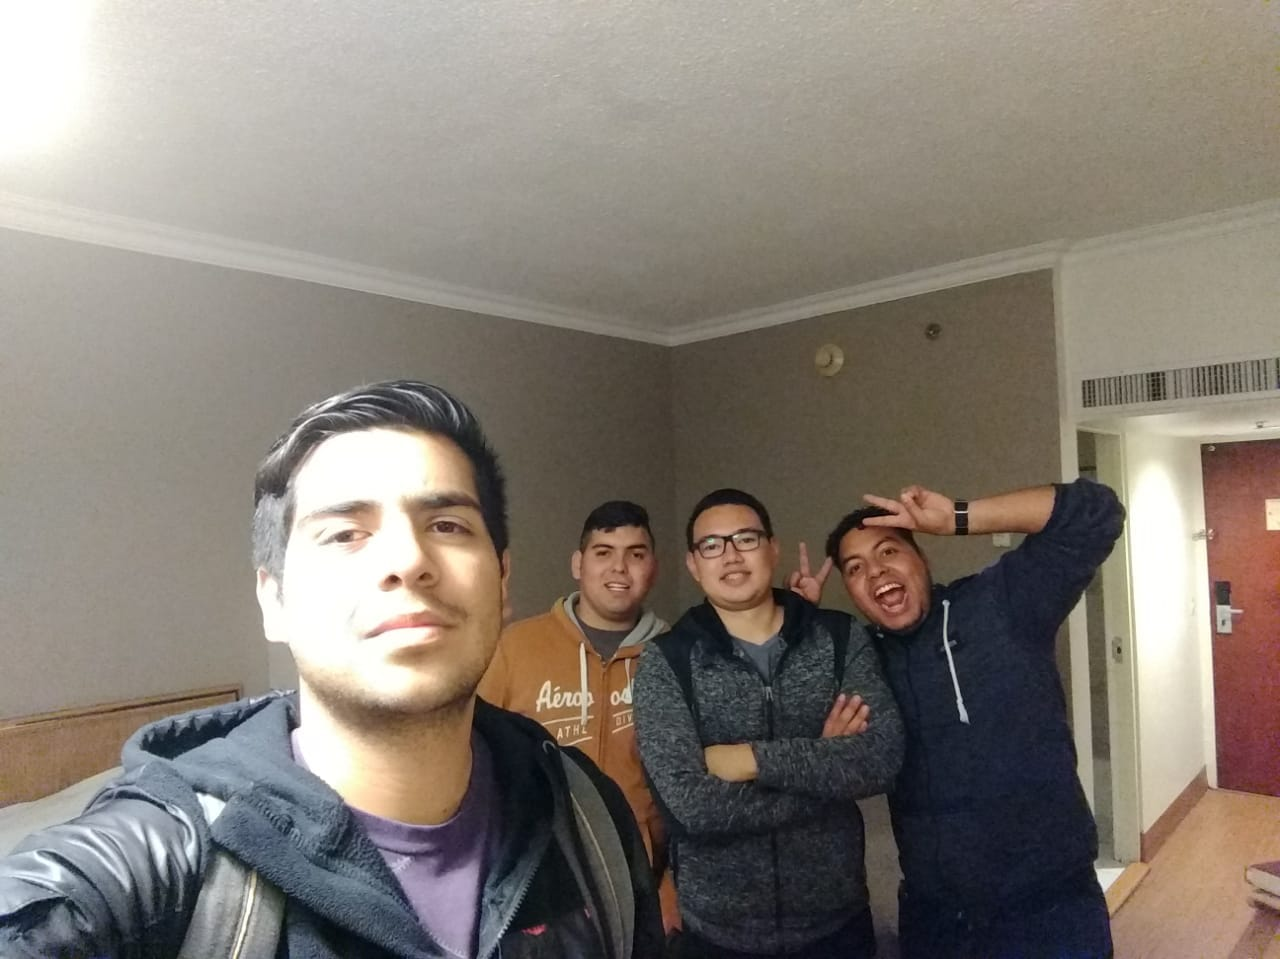Yoshi: (801, 454, 1190, 896)
